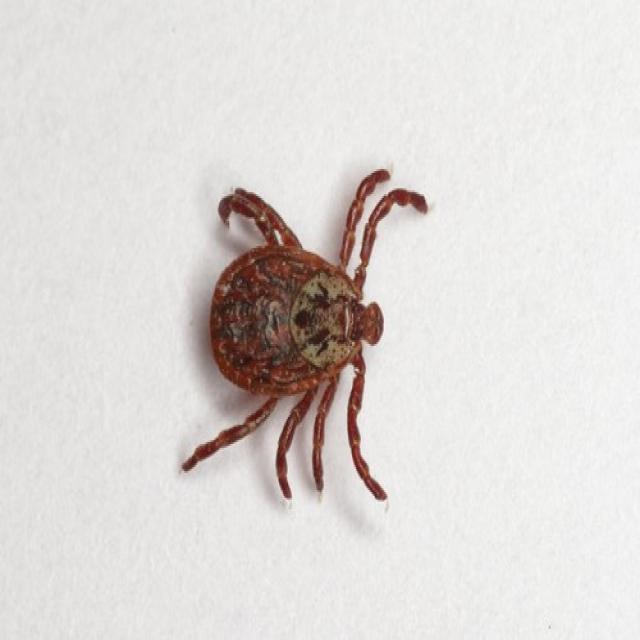Dermacentor Reticulatus-F: (184, 169, 431, 504)
